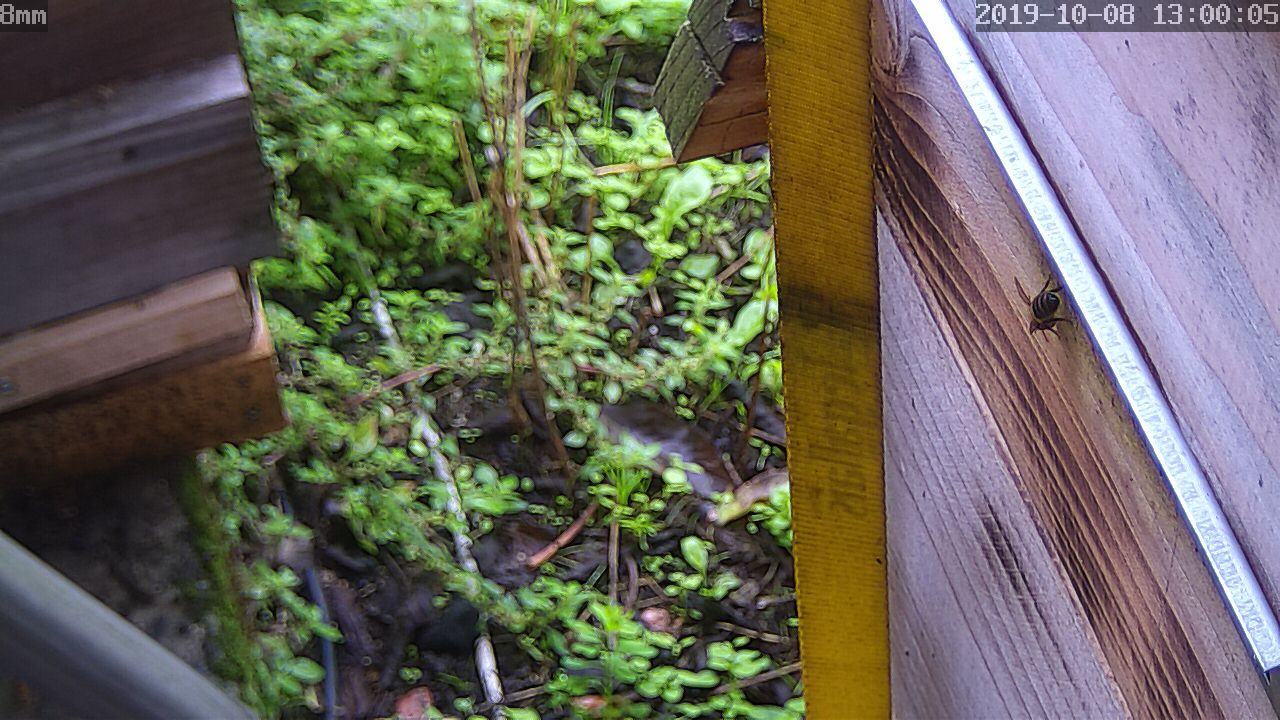hornet: (1013, 279, 1081, 344)
